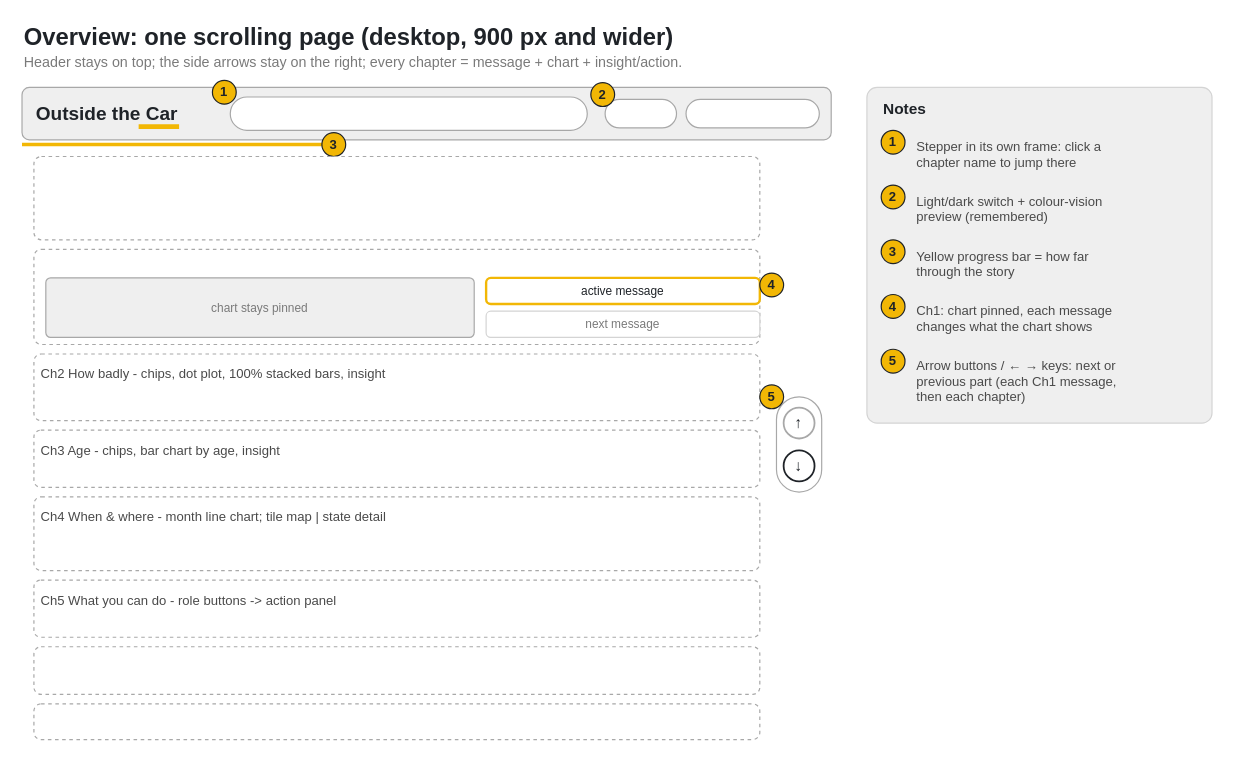
Image size: 1233x760. Some labels were removed from this diagram. Here are the shapes that lost their labels. From the top down, the box of each, then its label:
(229, 96, 587, 130): Start 1 Who 2 How badly 3 … 7 Sources
(604, 98, 677, 128): Dark
(685, 98, 819, 128): Colour vision ▾
(33, 155, 760, 240): Start - title, lede, bed pictogram, insight + action
(33, 248, 760, 345): Ch1 Who - sticky line chart | 5 message cards (scrollytelling)
(33, 646, 760, 694): Summary - 5 cards: finding + action + Revisit
(33, 703, 760, 740): Sources - APA references, limitations
